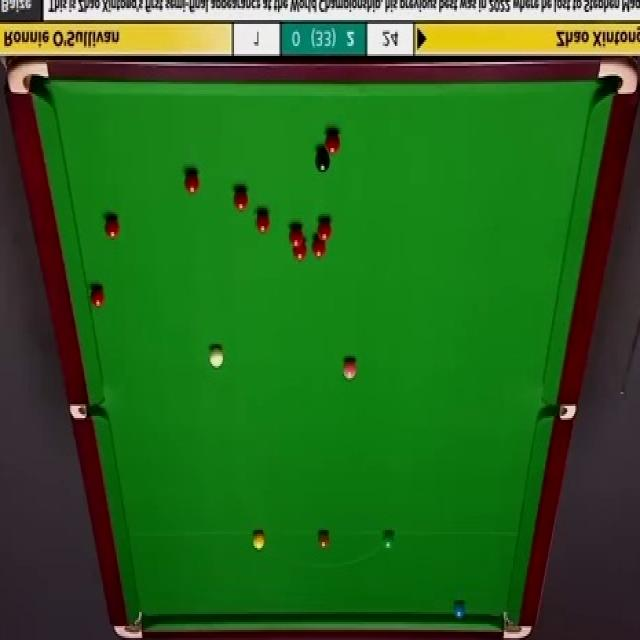pocket: (596, 54, 637, 98), (8, 63, 48, 95), (111, 609, 145, 640), (502, 608, 534, 638), (70, 402, 106, 422), (539, 405, 575, 420)
